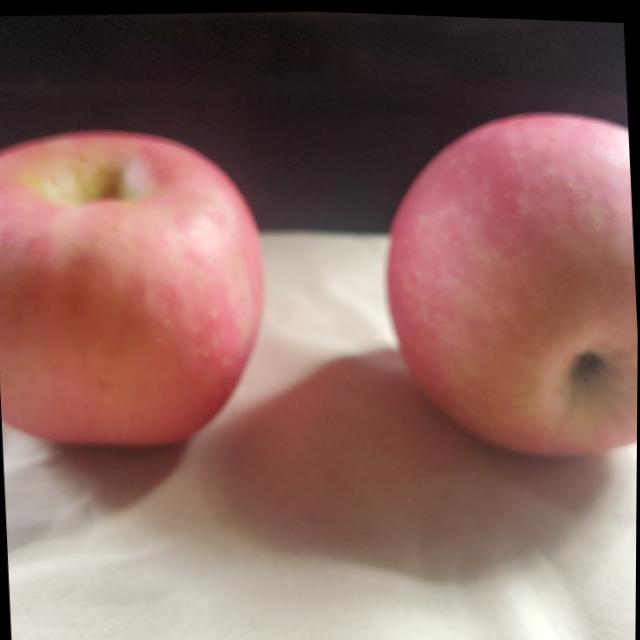apple: (0, 121, 276, 464), (378, 103, 639, 465)
